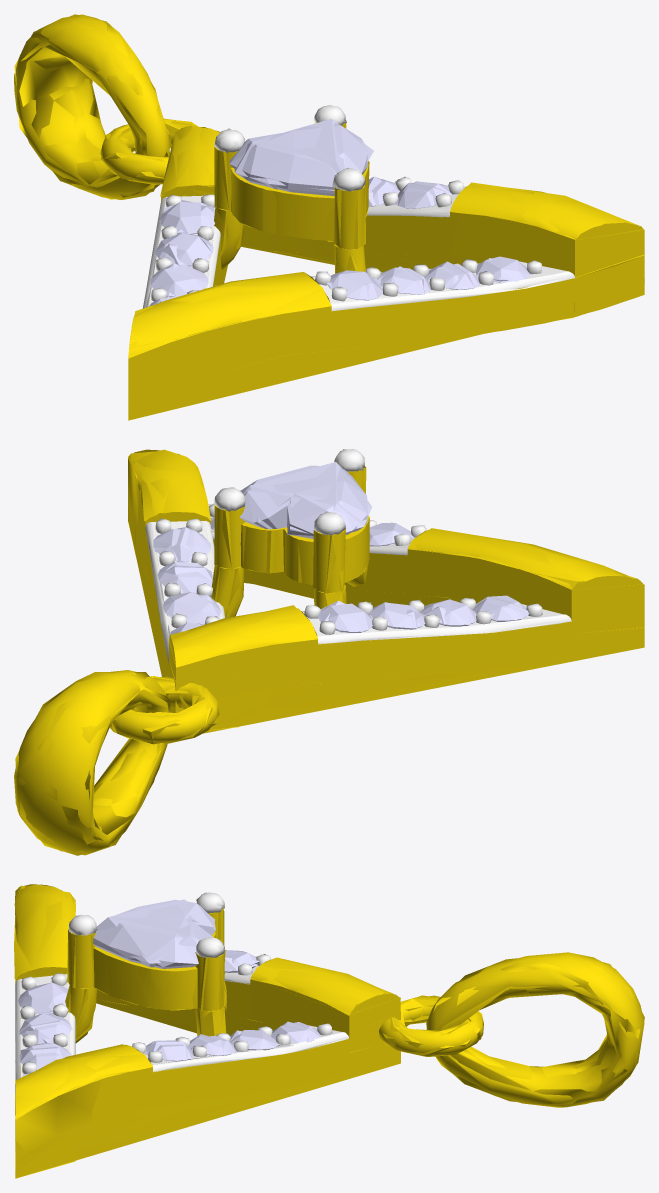
Rendered from DPN-D000675683.glb.
The picture shows the model from 3 angles, top to bottom: view 1: azimuth 30°, elevation 25°; view 2: azimuth 150°, elevation 25°; view 3: azimuth 270°, elevation 25°; orthographic projection. The views are drawn at different scales.
Parts seen in each view (by area): view 1: highPolyMesh, lowPolyMesh; view 2: highPolyMesh, lowPolyMesh; view 3: highPolyMesh, lowPolyMesh.
Boxes of the visible parts, x1=… form: highPolyMesh: x1=14, y1=14, x2=644, y2=379; lowPolyMesh: x1=14, y1=14, x2=644, y2=420; highPolyMesh: x1=14, y1=449, x2=644, y2=855; lowPolyMesh: x1=15, y1=449, x2=642, y2=855; highPolyMesh: x1=14, y1=884, x2=644, y2=1178; lowPolyMesh: x1=14, y1=885, x2=644, y2=1178.
Bounding box in the file's own units: 0.0151 × 0.00571 × 0.0175.
